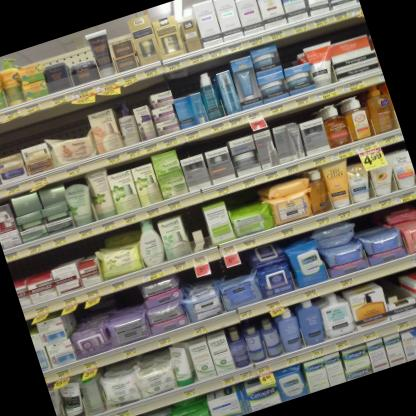empty_space: (181, 208, 217, 254)
